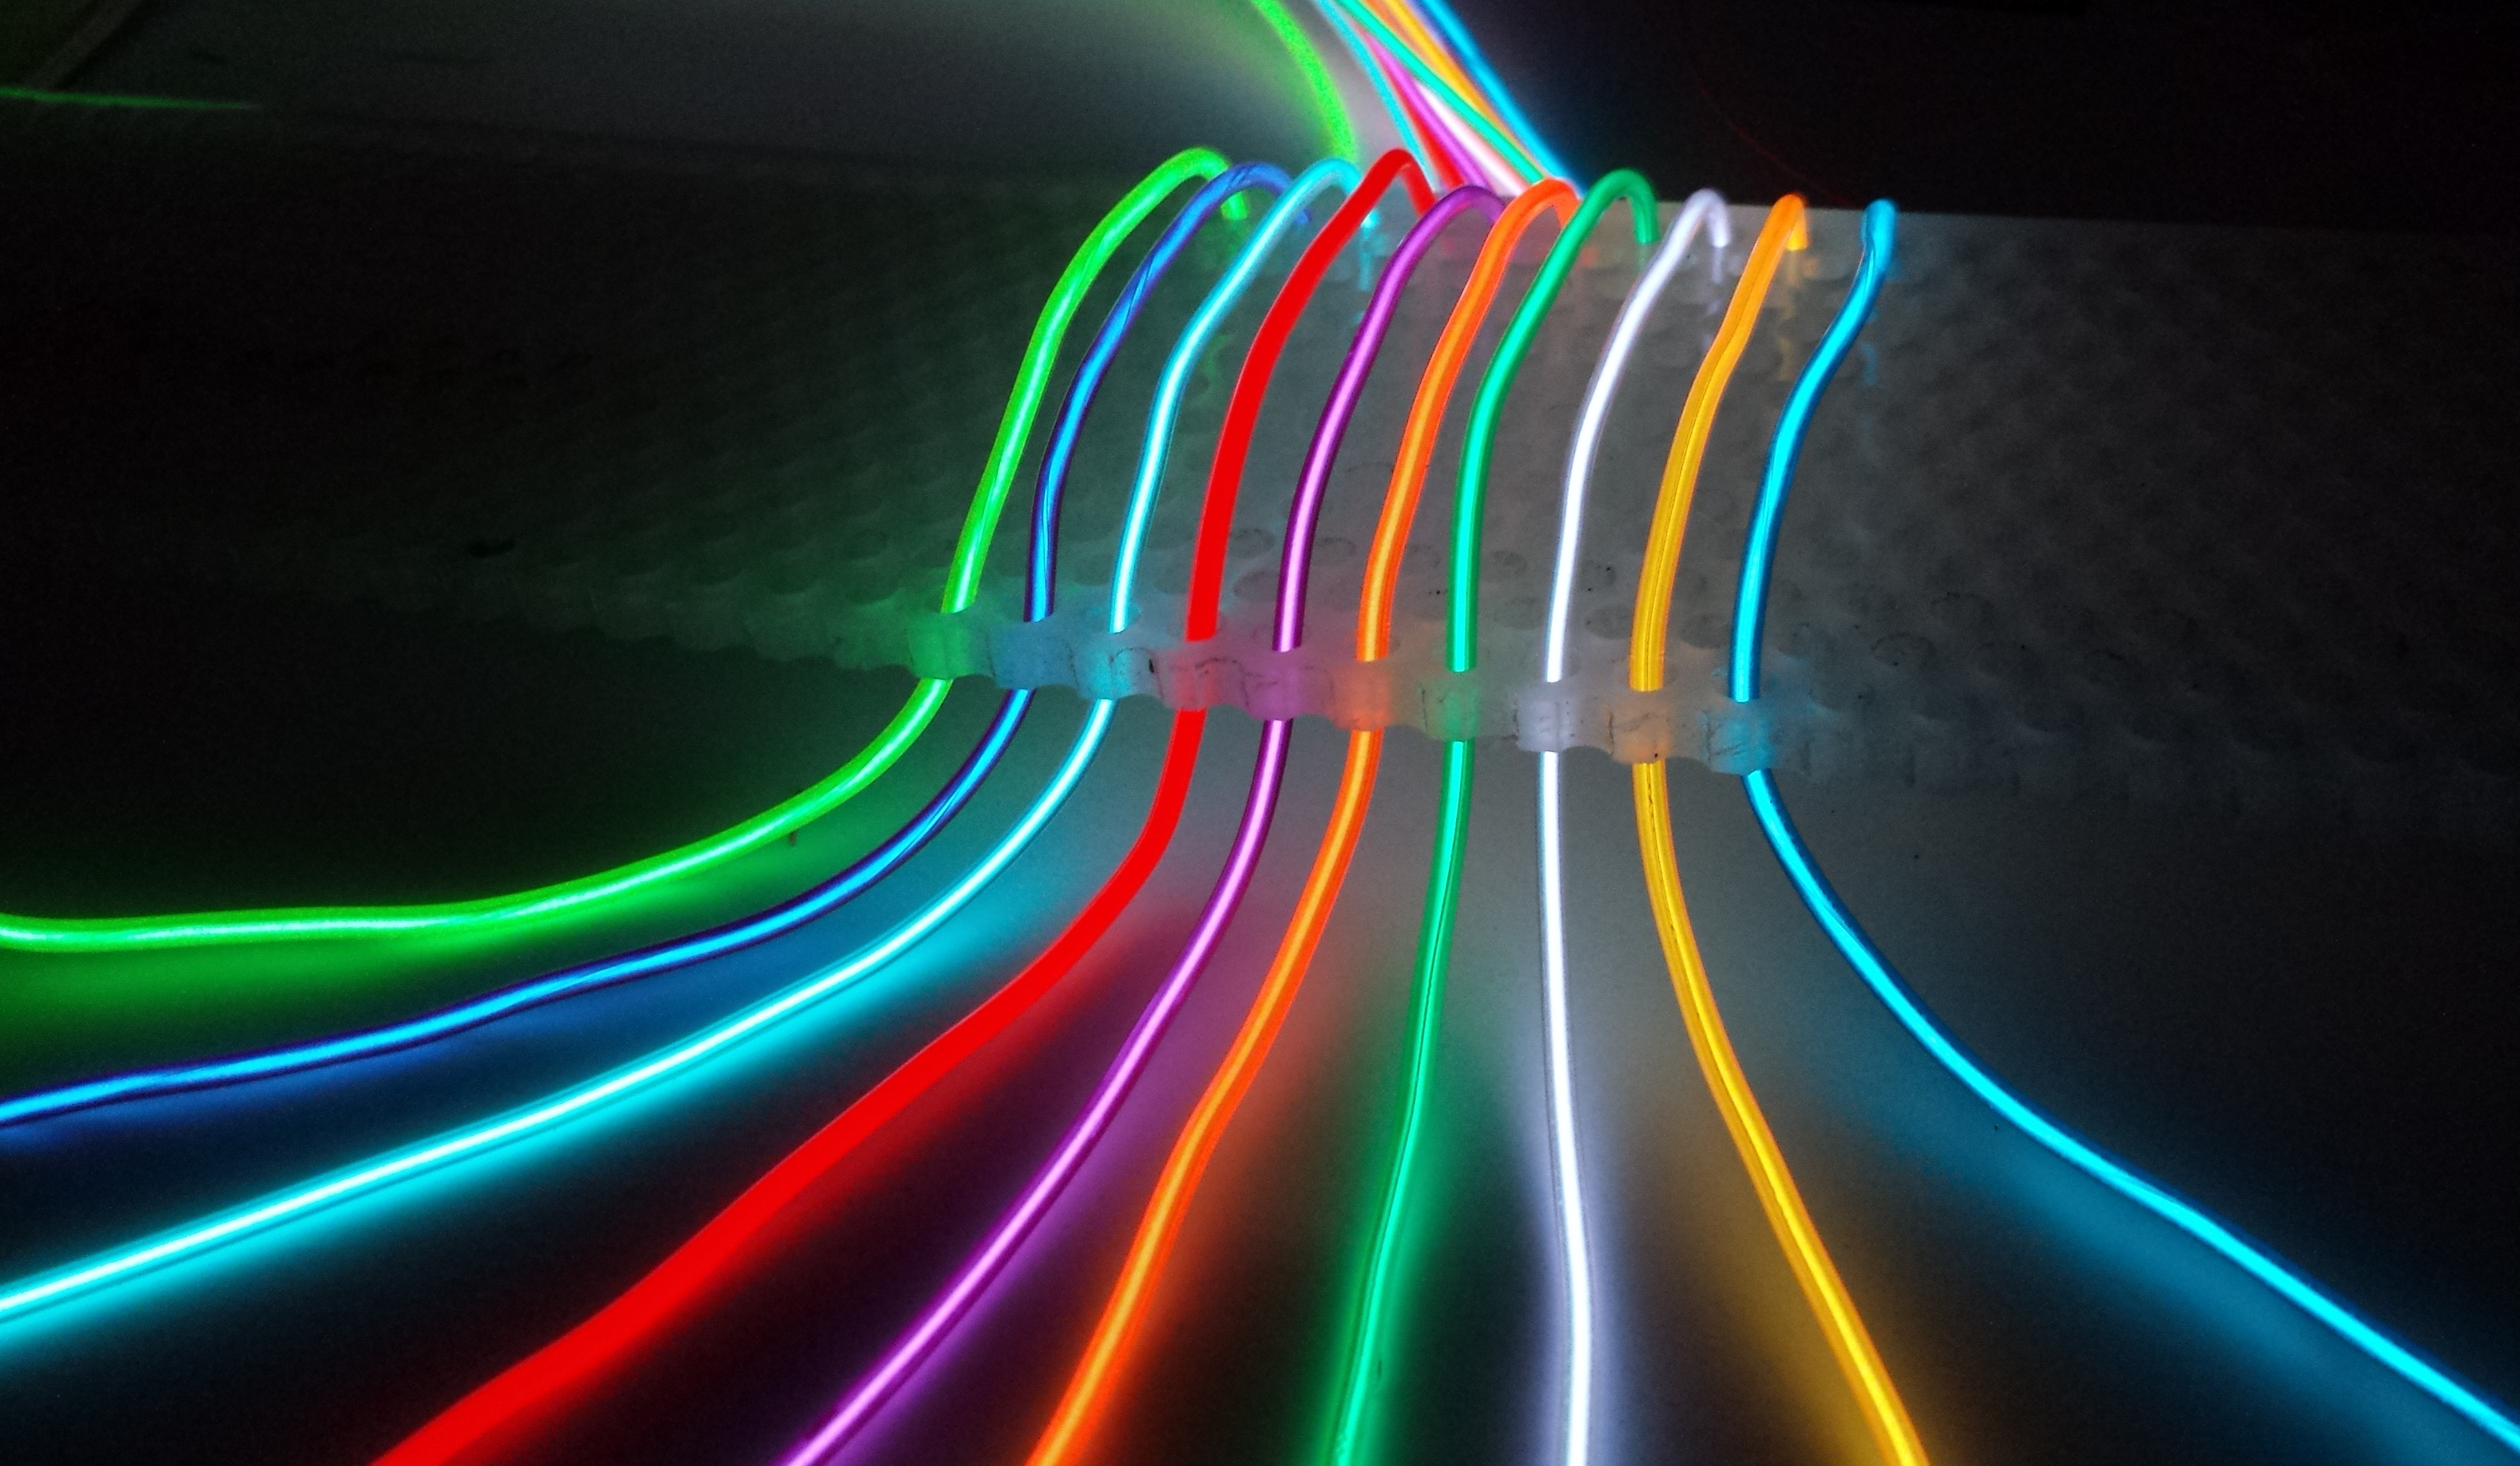Nonrec_Tangler: (0, 56, 2482, 1426)
